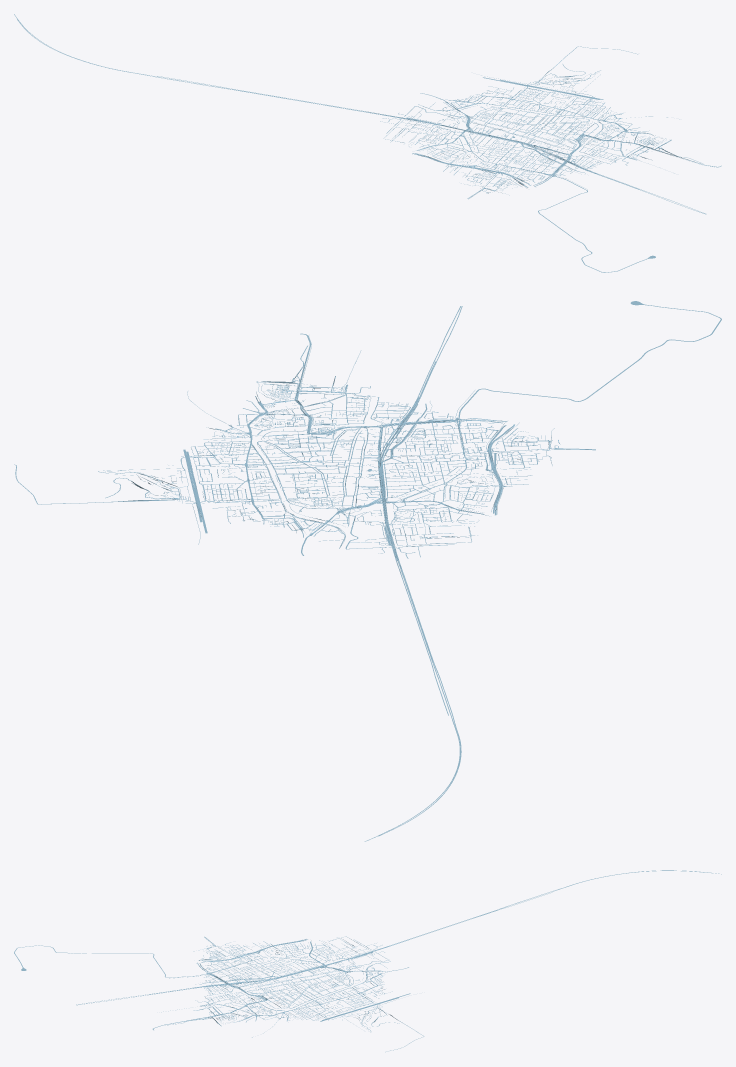
File: roads.glb
3 renders of one model, top to bottom at view 1: azimuth 30°, elevation 25°; view 2: azimuth 150°, elevation 25°; view 3: azimuth 270°, elevation 25°, orthographic. The views are drawn at different scales.
Parts seen in each view (by area): view 1: roads; view 2: roads; view 3: roads.
Boxes of the visible parts, x1,y1,x2,y2 form: roads: [14, 14, 721, 272]; roads: [14, 301, 721, 841]; roads: [14, 870, 721, 1052].
Bounding box in the file's own units: 5454 × 26.23 × 8954.
